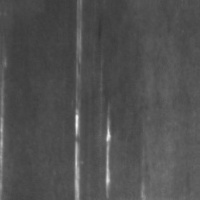scratches: (70, 105, 86, 199), (101, 108, 117, 198)
